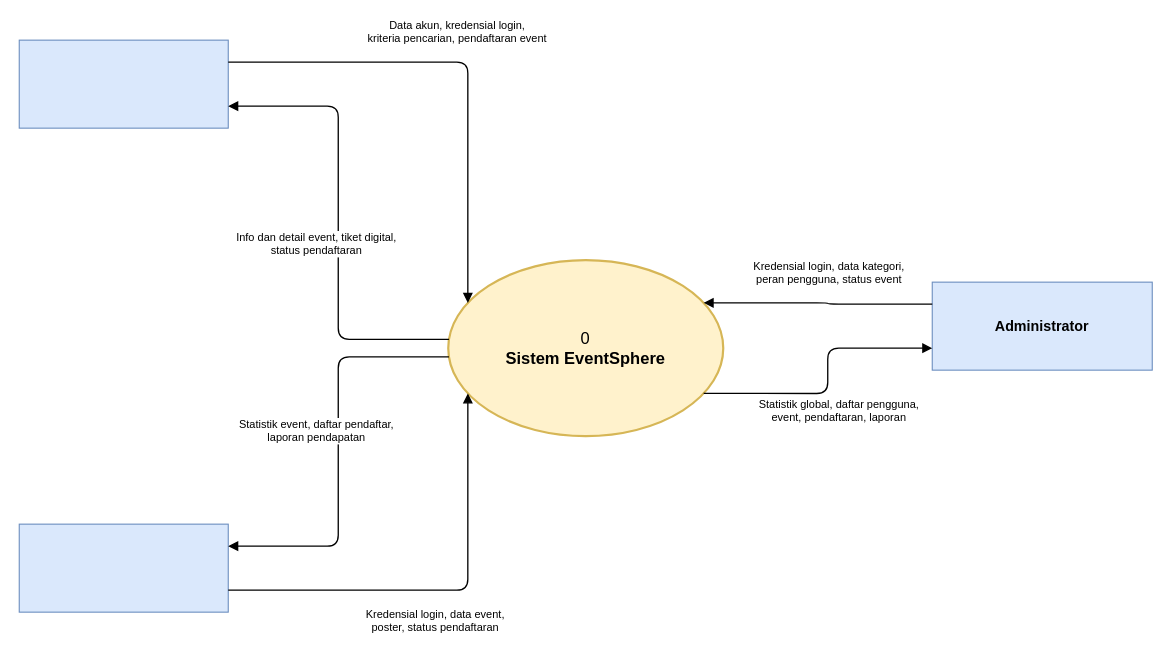
The diagram is 1172 pixels wide and 653 high, and some of its shapes have lost their labels. The centre of each missing label's shape, as x and y in pixels:
Pengunjung / Peserta: the point at 123,83
Penyelenggara: the point at 123,567
